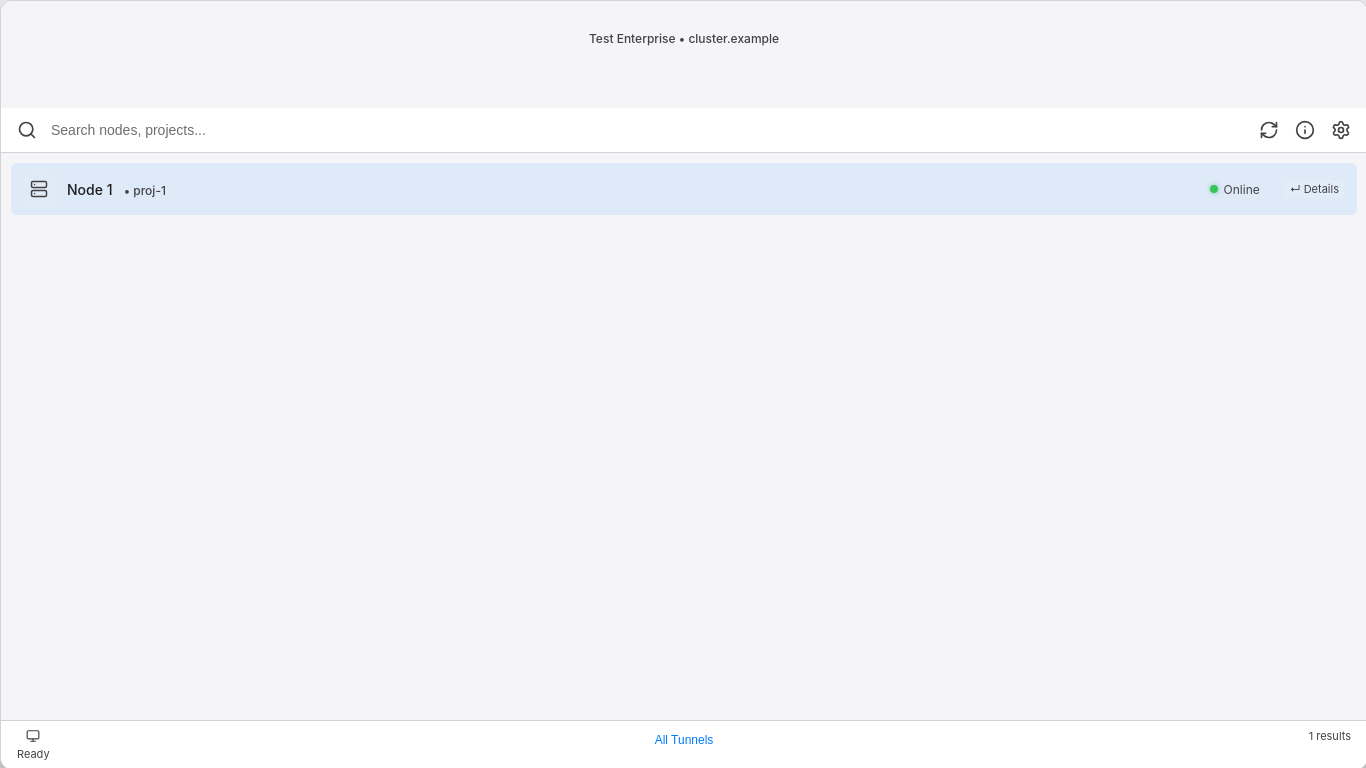
Test case: App configuration and tunnels › renders Activity Log section when a node is selected
Click the text "Node 1": click(90, 189) [67,180,166,198]
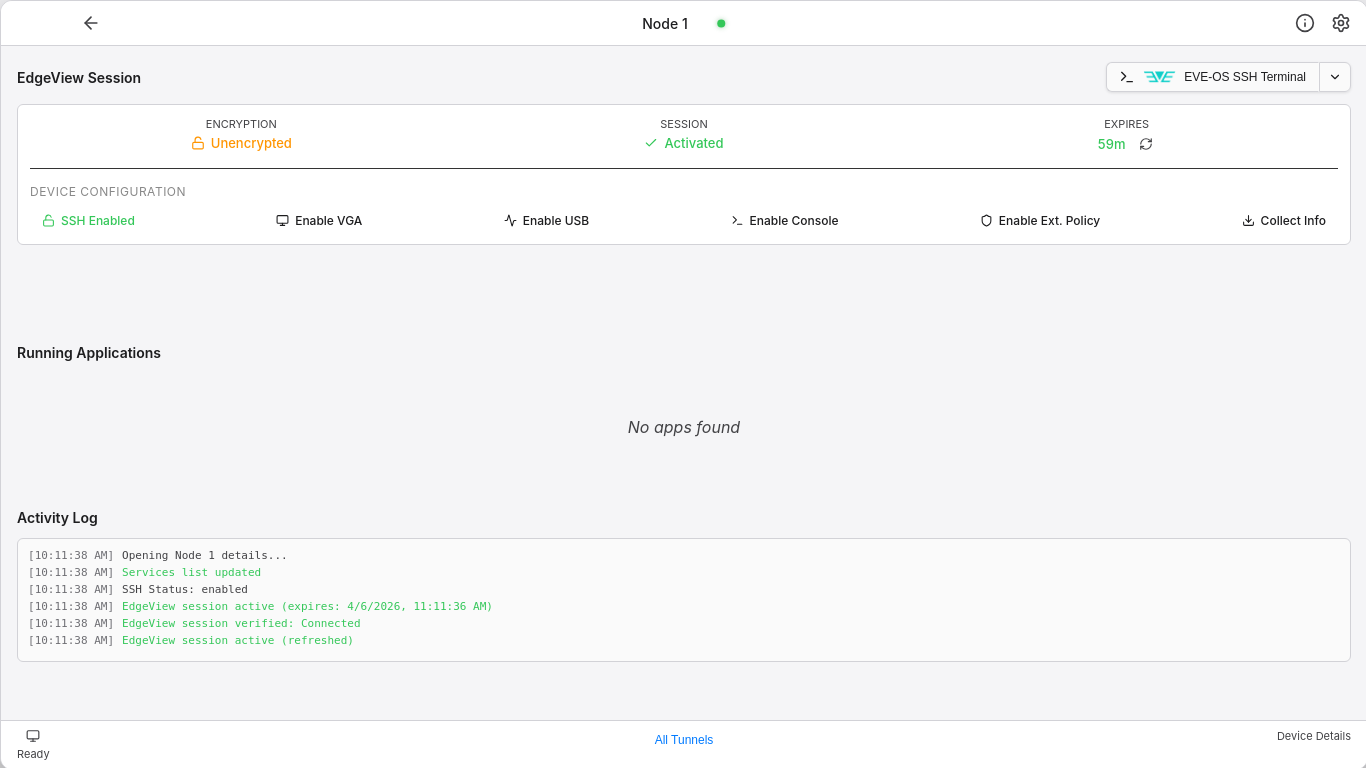
Expected: the heading "Running Applications" is shown, [17,344,161,361]
Expected: the text "Activity Log" is shown, [17,509,98,526]
